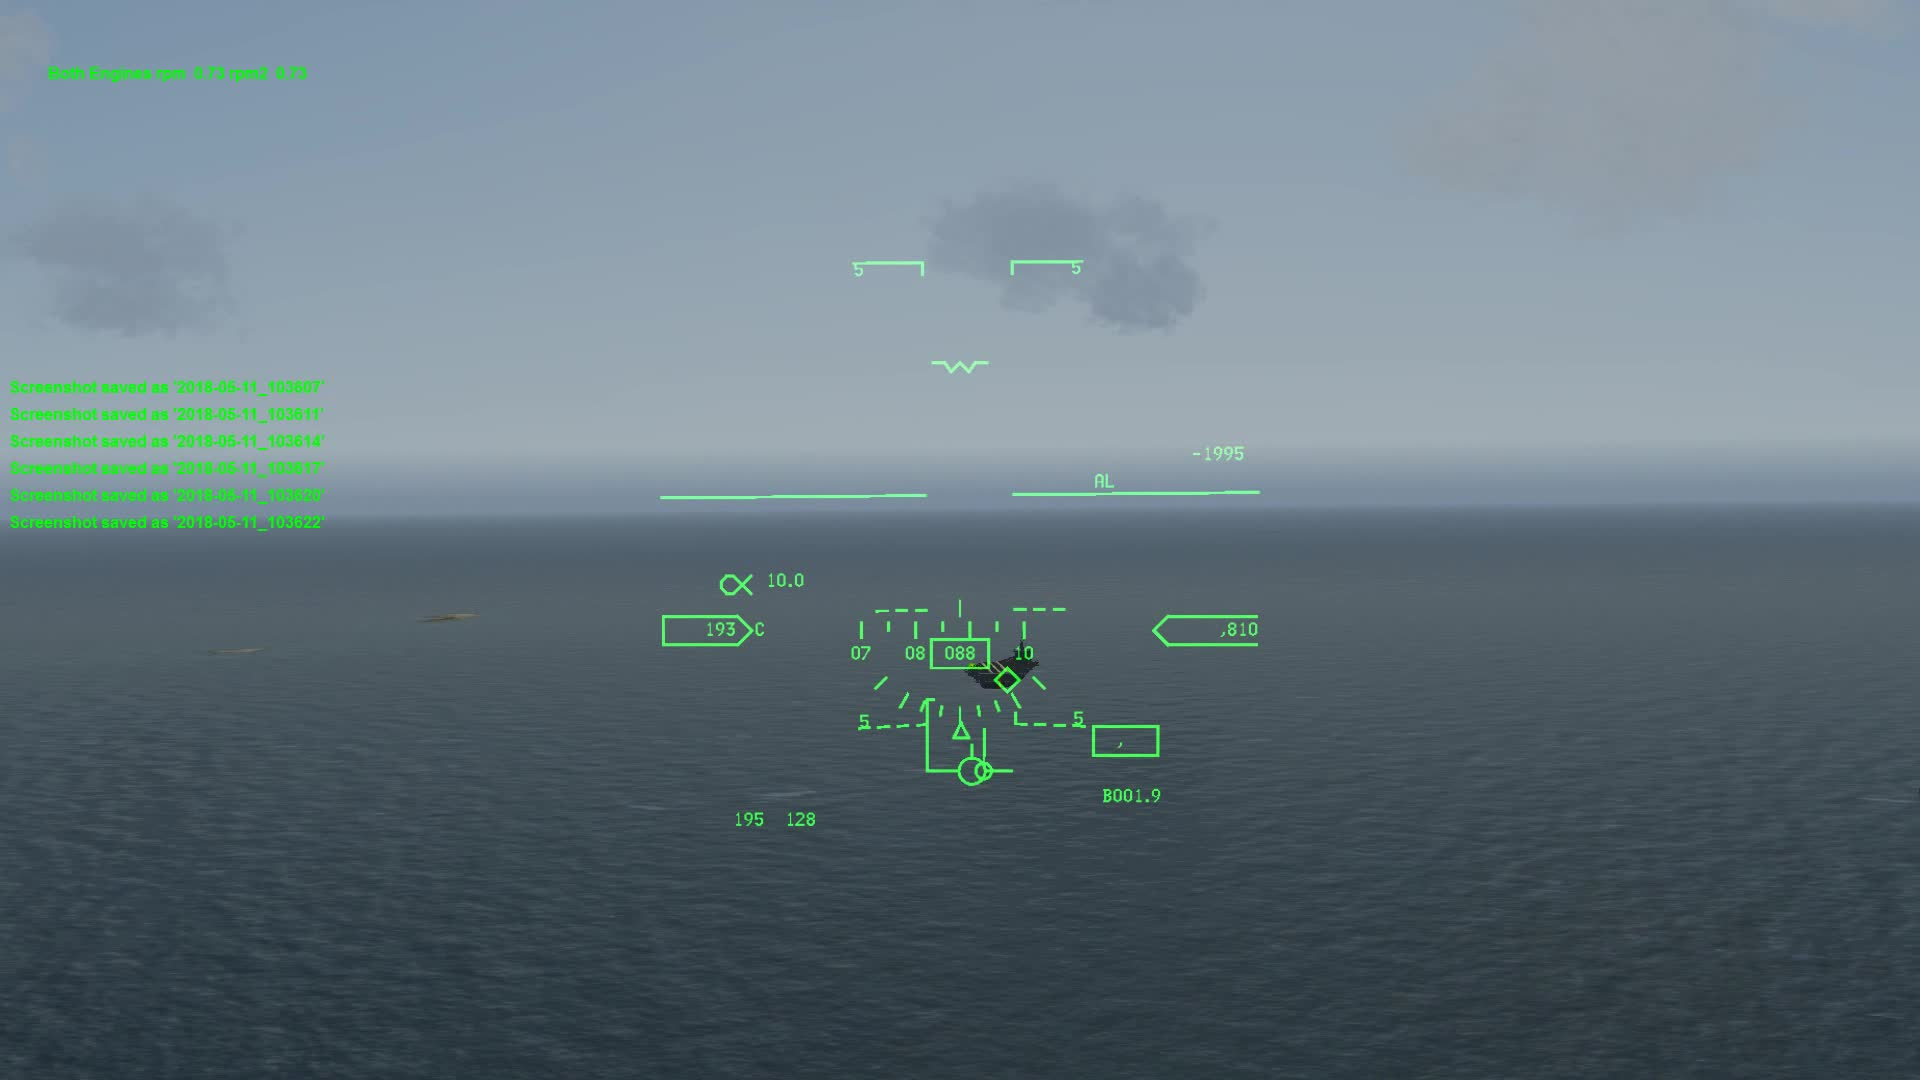speed vector: (942, 750, 1000, 803)
